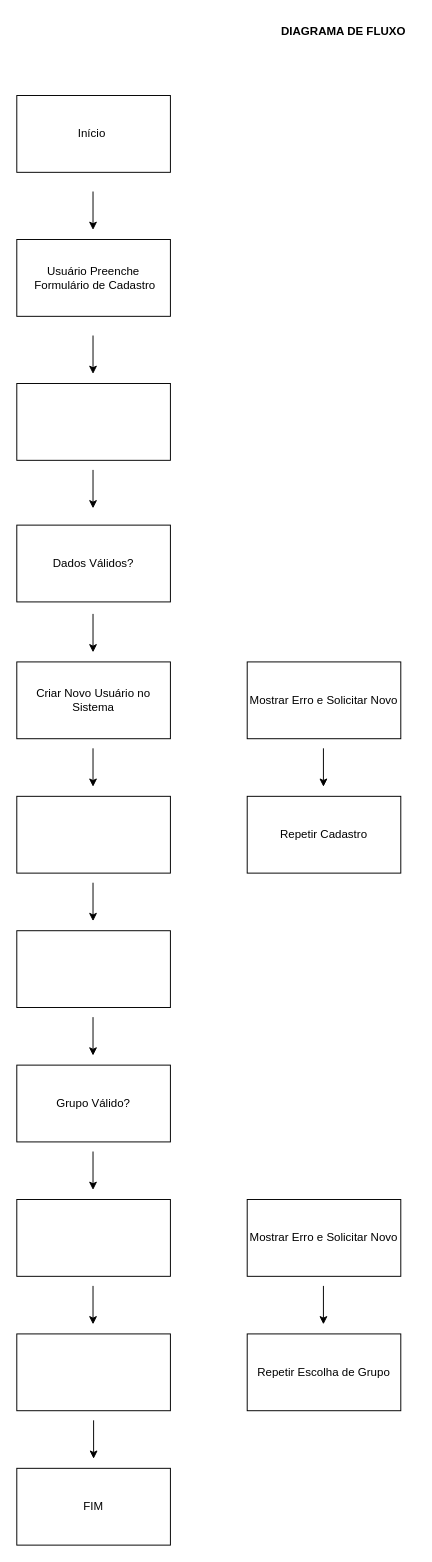
The diagram is 432 pixels wide and 1562 high, and some of its shapes have lost their labels. Here are the shapes that lost their labels. From the top down, the centre of each, then its label:
At pixel 93 421: "Validar Dados do Usuário".
At pixel 93 834: "Usuário Escolhe Grupo".
At pixel 93 969: "Validar Grupo".
At pixel 93 1237: "Associar Usuário ao Grupo".
At pixel 93 1372: "Confirmar Cadastro e Associação".
